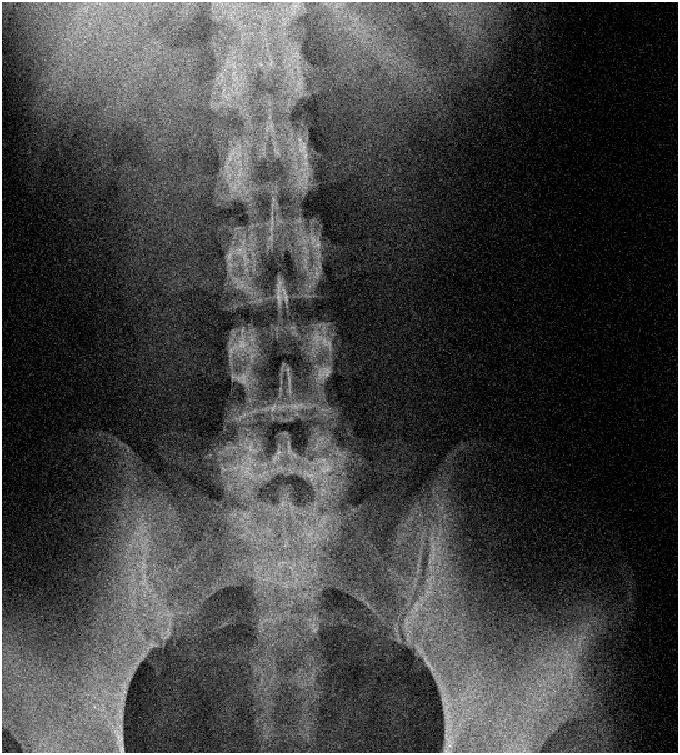lumbar scoliosis: (212, 46, 358, 508)
